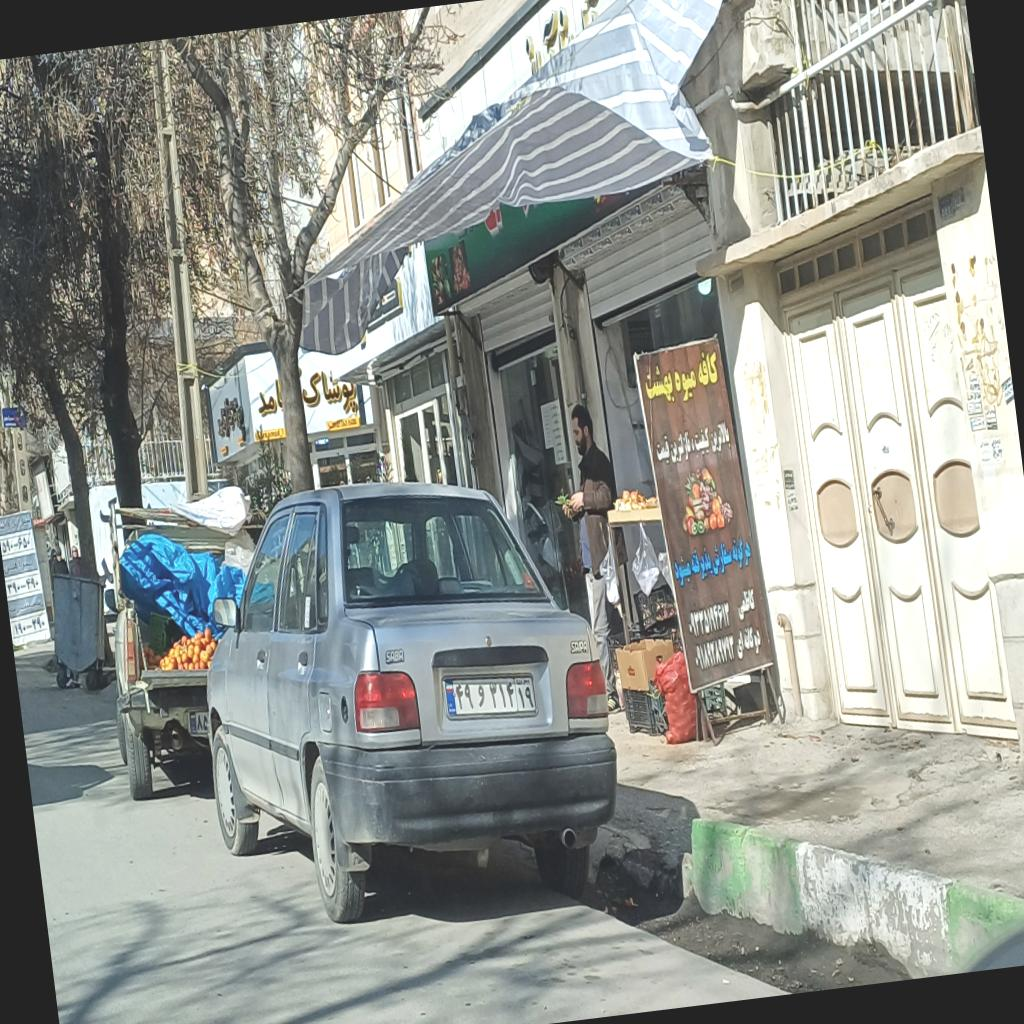Plates: (442, 668, 536, 722)
